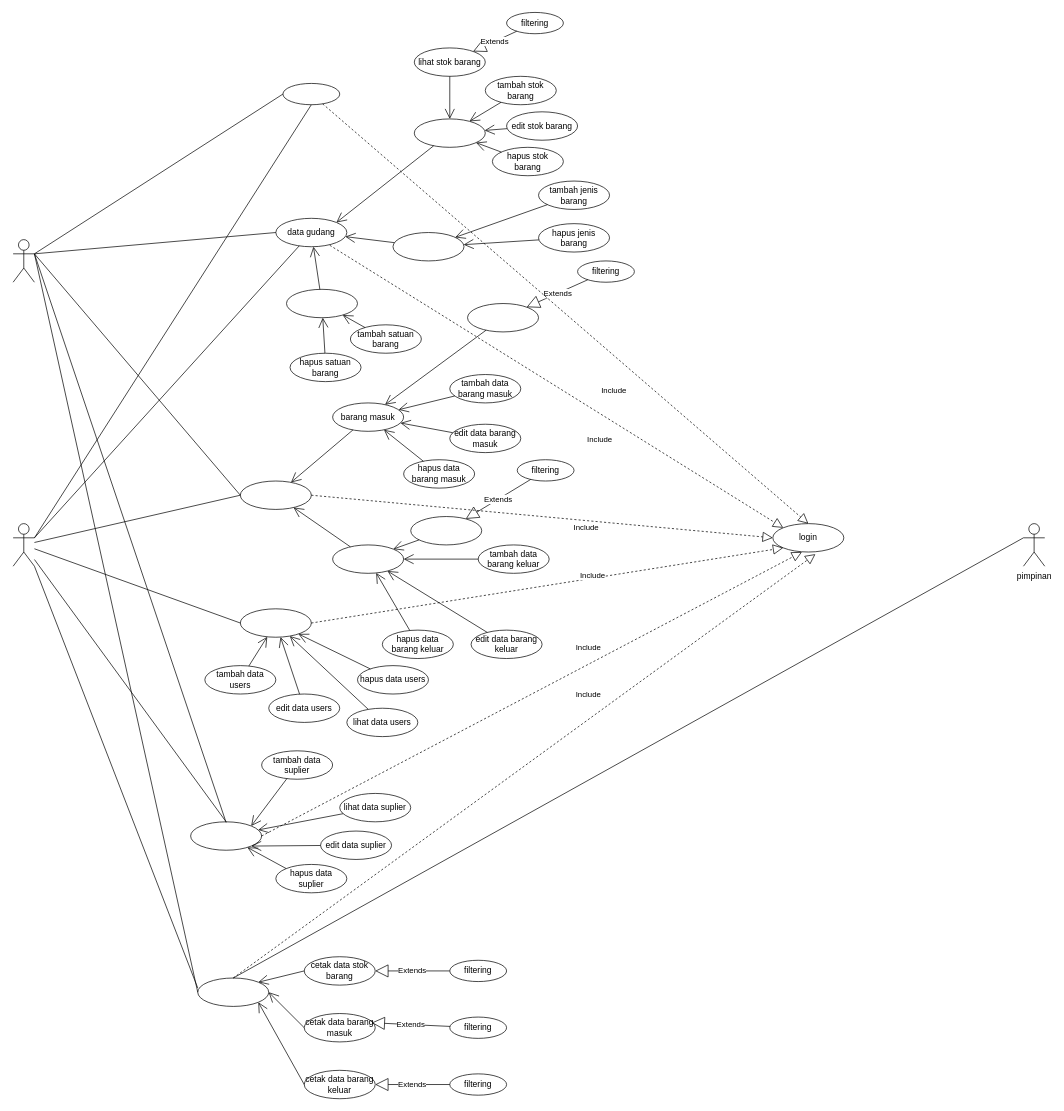
Image size: 1064x1111. Some labels were removed from this diagram. The shapes that lost their labels are listed below. From the top down, each one's box as (x1, y1, x2, y2) in pixels, then its label:
(282, 83, 340, 105): logout
(414, 118, 485, 147): stok barang
(12, 239, 34, 282): users
(392, 232, 464, 261): jenis barang
(286, 289, 357, 318): satuan
(467, 303, 539, 332): lihat data barang masuk
(240, 480, 311, 509): transaksi
(12, 523, 34, 566): admin
(410, 516, 482, 545): lihat data barang keluar
(332, 544, 404, 573): barang keluar
(240, 608, 311, 637): data users
(190, 821, 262, 850): suplier
(197, 977, 269, 1006): laporan
